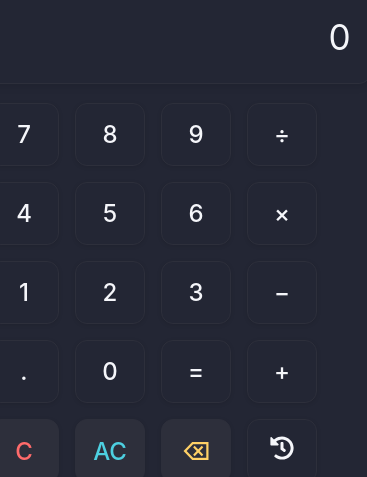
Test: Calculator › handles divide by zero
Click the button "8" at (110, 135), box [75,103,145,166]
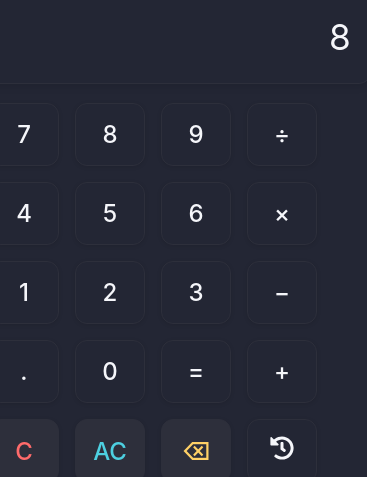
Click the button "÷" at (282, 135), box [247,103,317,166]
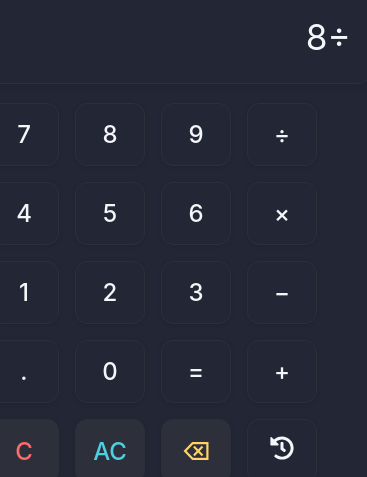
Click the button "0" at (110, 372), box [75,340,145,403]
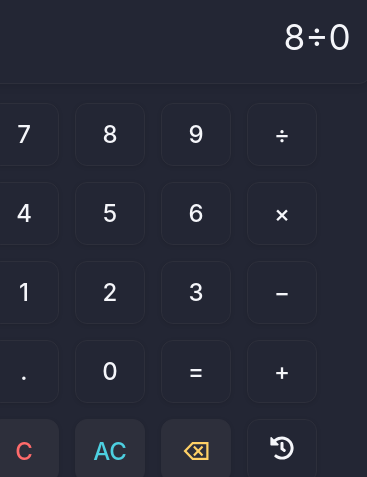
Click the button "=" at (196, 372), box [161,340,231,403]
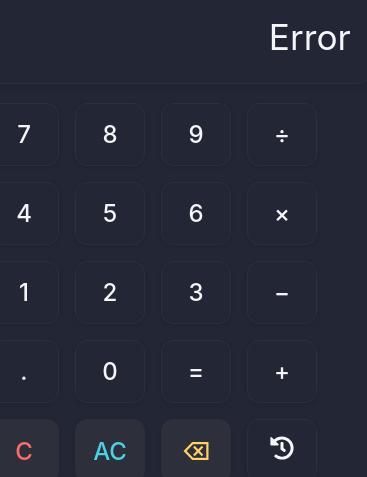
Check: the text named "display" reads "Error", box [269,16,351,58]
